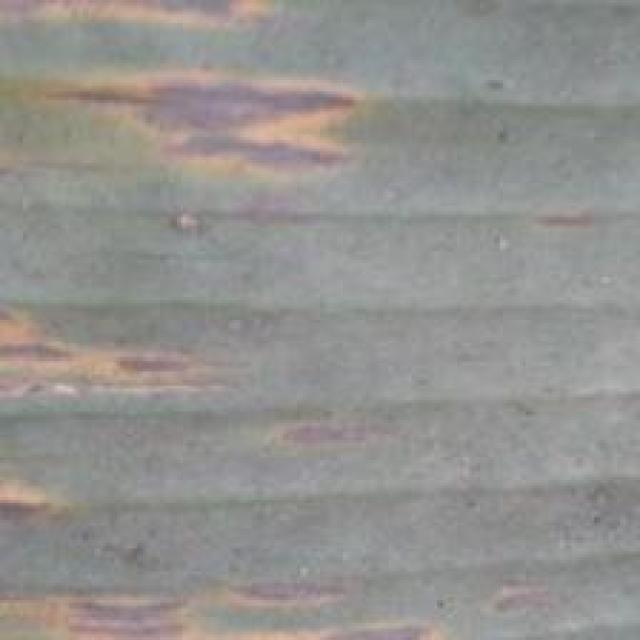Early_leaf_spot: (0, 550, 630, 640), (7, 40, 344, 170), (0, 255, 240, 434), (483, 142, 622, 278), (252, 384, 423, 472), (3, 0, 350, 40), (0, 443, 78, 543)
